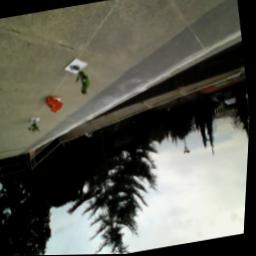herb: (76, 67, 95, 99), (29, 119, 44, 137)
wild: (46, 95, 68, 116)
